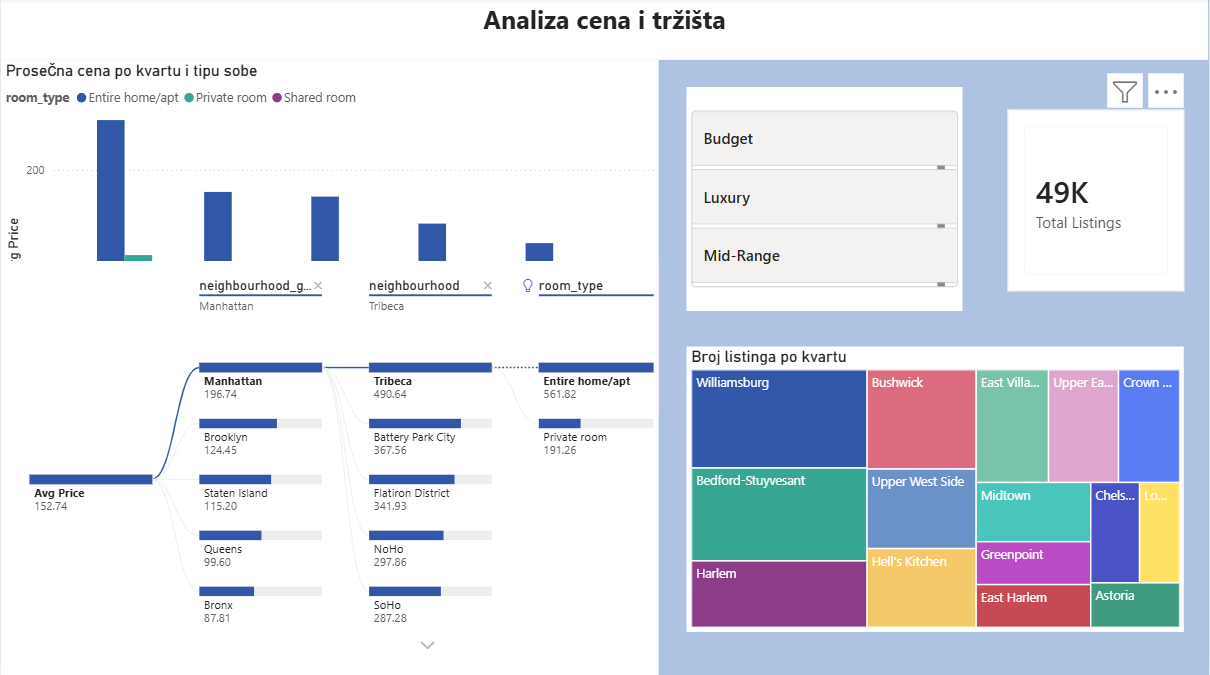

This screenshot's page, from the dashboard's own definition file:
{"tool":"powerbi","page":{"name":"Page 2","canvas":[1280,720],"ordinal":1},"visuals":[{"type":"clusteredColumnChart","title":"Prosečna cena po kvartu i tipu sobe","fields":{"Category":["Dim_Location.neighbourhood_group"],"Y":["Fact_Listings.Avg Price"],"Series":["Dim_RoomType.room_type"]},"box":[0,66,698,374],"z":0},{"type":"treemap","title":"Broj listinga po kvartu","fields":{"Group":["Dim_Location.neighbourhood"],"Values":["Fact_Listings.Total Listings"]},"box":[727.5,370,527.5,302.5],"z":1000},{"type":"cardVisual","fields":{"Rows":["Fact_Listings.Price Category"]},"box":[727.5,95,292.5,237.5],"z":2000},{"type":"cardVisual","fields":{"Data":["Fact_Listings.Total Listings"]},"box":[1067.5,120,187.5,192.5],"z":3000},{"type":"textbox","box":[0,0,1280,66.7],"z":4000},{"type":"decompositionTreeVisual","fields":{"Analyze":["Fact_Listings.Avg Price"],"ExplainBy":["Dim_Location.neighbourhood_group","Dim_RoomType.room_type","Dim_Location.neighbourhood"]},"box":[0,440,696.7,280],"z":5000}]}

Visuals, with their boxes in screenshot pixels (x1, y1, x2, y2), scaled from the page's 1280x720 canvas onto the 1210x675 screenshot:
"Prosečna cena po kvartu i tipu sobe" clusteredColumnChart: bbox(0, 62, 660, 412)
"Broj listinga po kvartu" treemap: bbox(688, 347, 1186, 630)
cardVisual - Fact_Listings.Price Category: bbox(688, 89, 964, 312)
cardVisual - Fact_Listings.Total Listings: bbox(1009, 112, 1186, 293)
textbox: bbox(0, 0, 1209, 63)
decompositionTreeVisual - Fact_Listings.Avg Price x Dim_Location.neighbourhood_group: bbox(0, 412, 659, 674)
